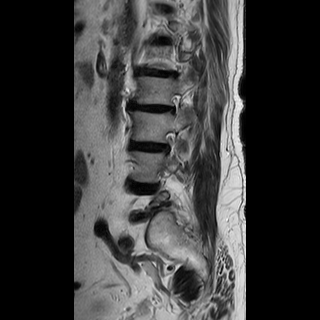LFS0: (157, 124, 180, 161), (163, 88, 185, 121)
